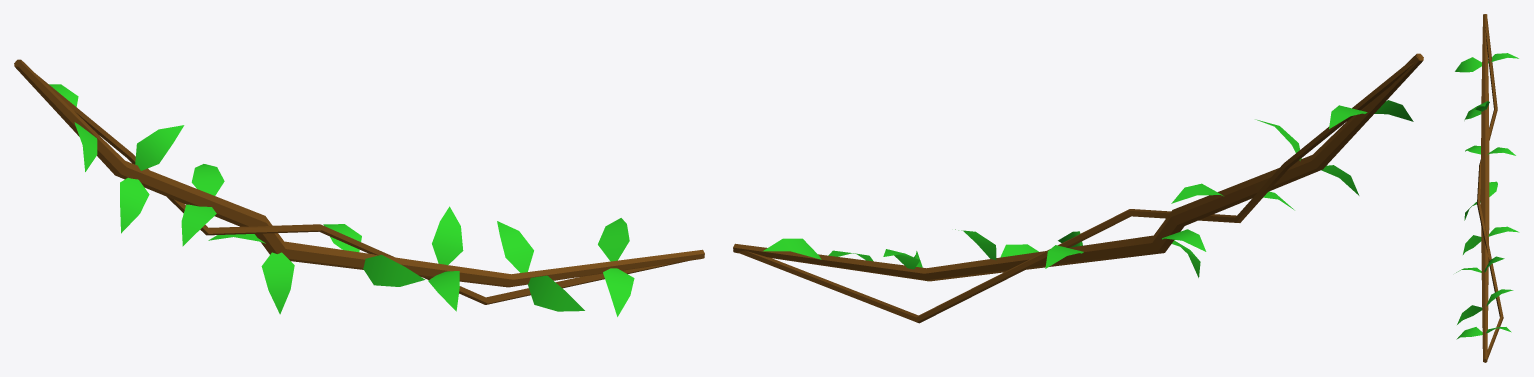
The model's file is Liana_002.FBX.
3 views of the same model, side by side, from view 1: azimuth 30°, elevation 25°; view 2: azimuth 150°, elevation 25°; view 3: azimuth 270°, elevation 25° (orthographic). The views are drawn at different scales.
Parts seen in each view (by area): view 1: Liana_002; view 2: Liana_002; view 3: Liana_002.
Part boxes in pixels (box(x1,y1,x2,y2)): Liana_002: box(14, 59, 704, 316); Liana_002: box(733, 53, 1423, 323); Liana_002: box(1455, 14, 1519, 362).
Bounding box in the file's own units: 79.18 × 41.22 × 13.52.
